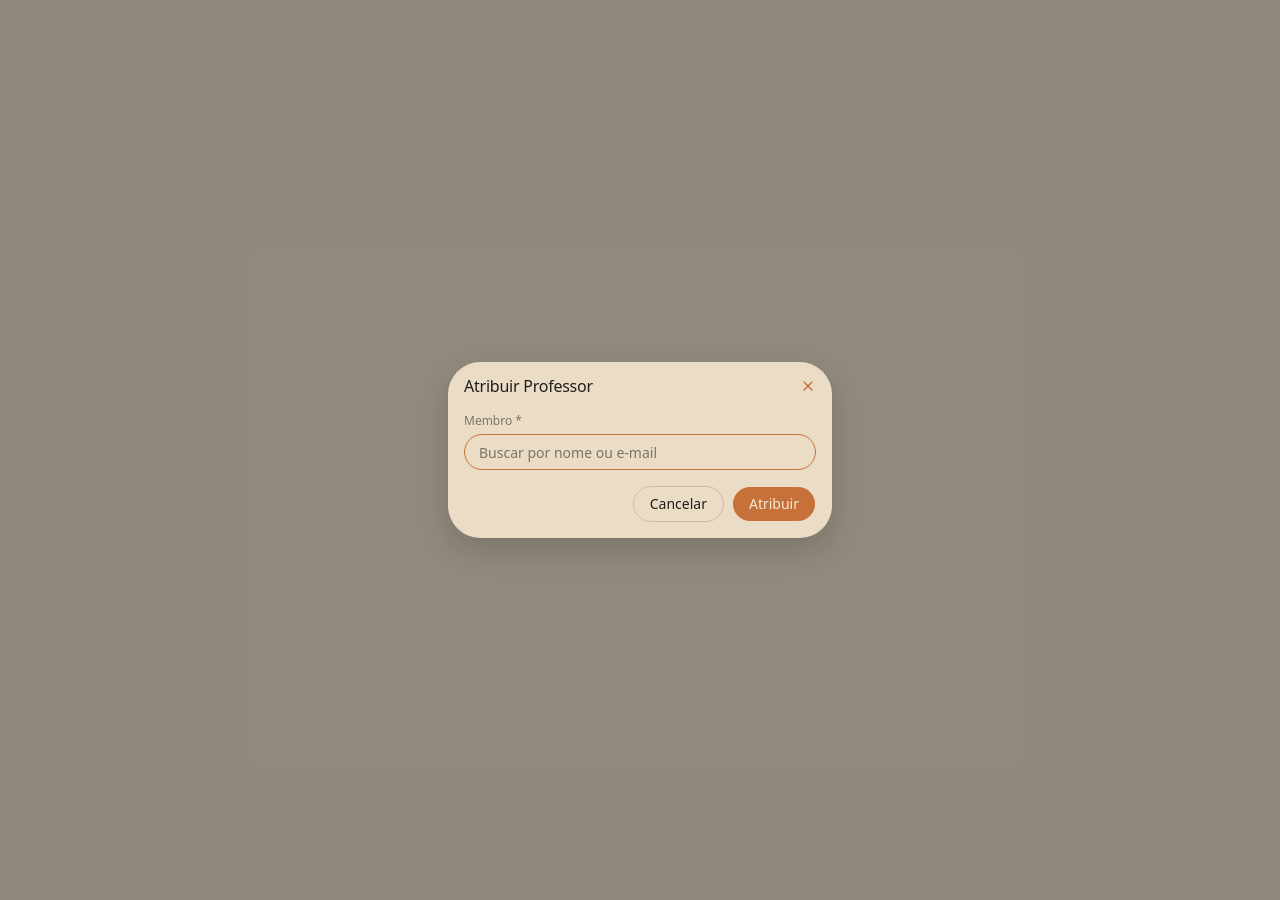
it: AssignTeacherDialog › lists only eligible members that are not assigned yet
Click the dropdown labelled "Membro *": (640, 452) x1=464 y1=434 x2=816 y2=470
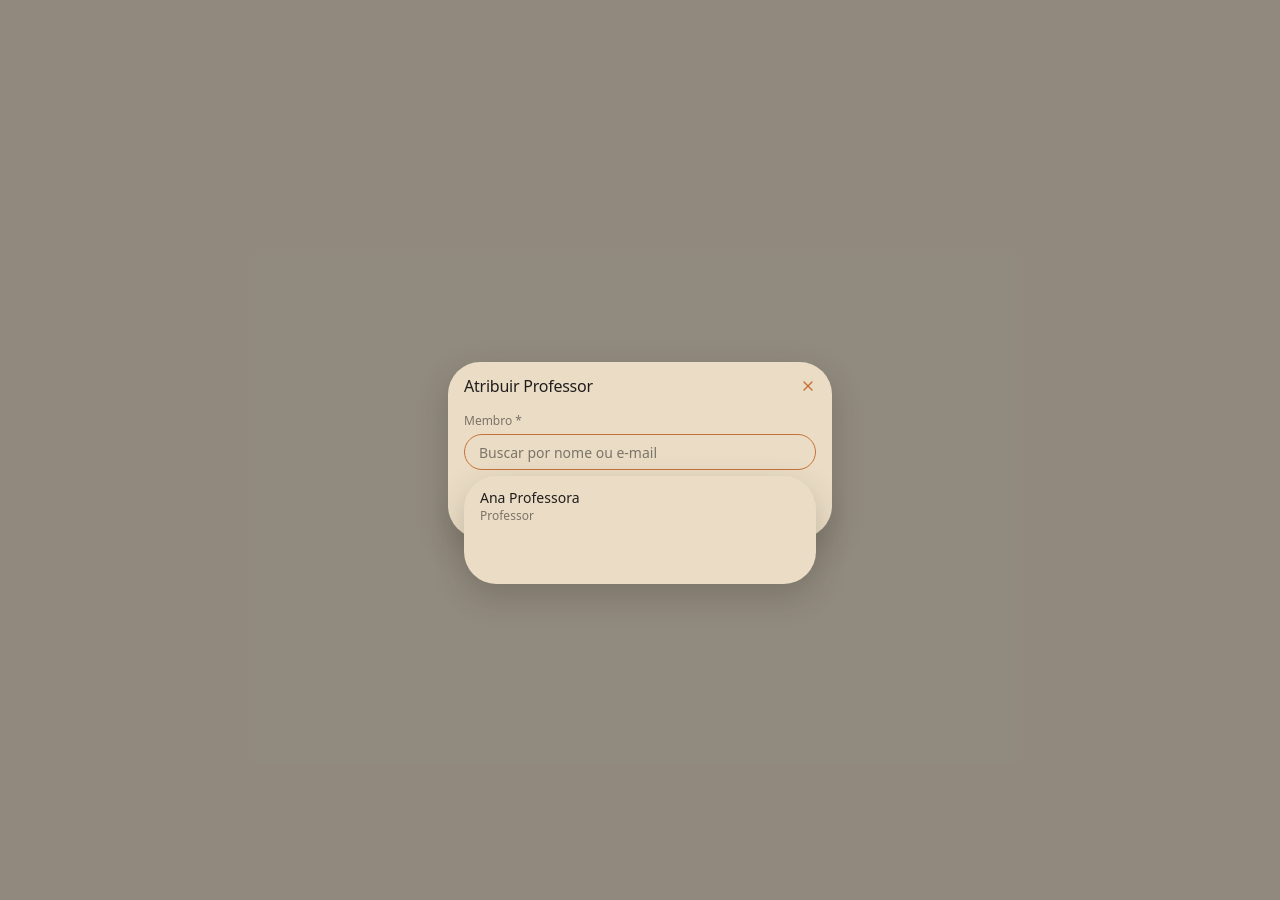
Now the text "Ana Professora" is shown, box x1=480 y1=488 x2=580 y2=508
